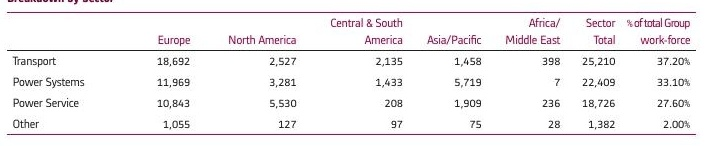table: (0, 0, 710, 146)
